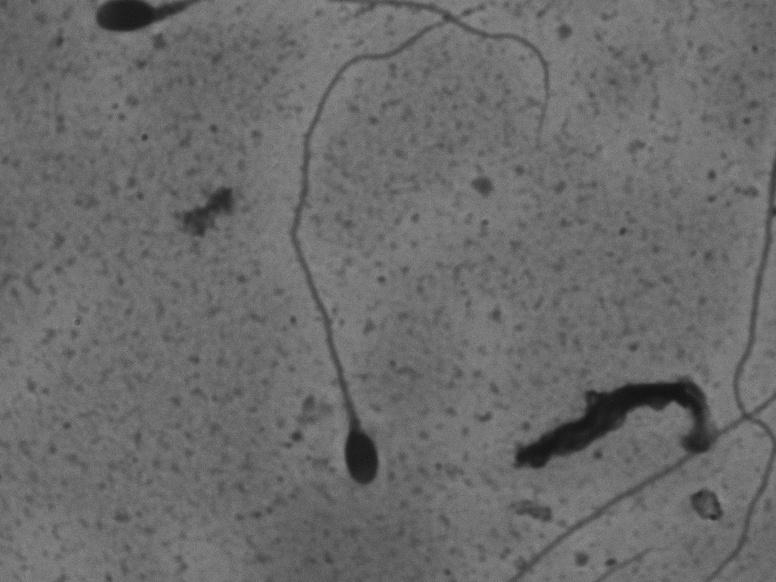Normal: (271, 16, 512, 490)
